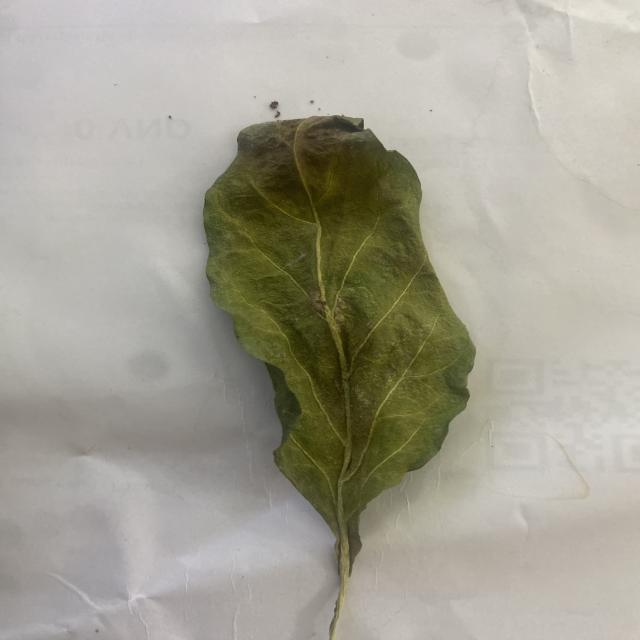Leaf: (201, 114, 476, 571)
